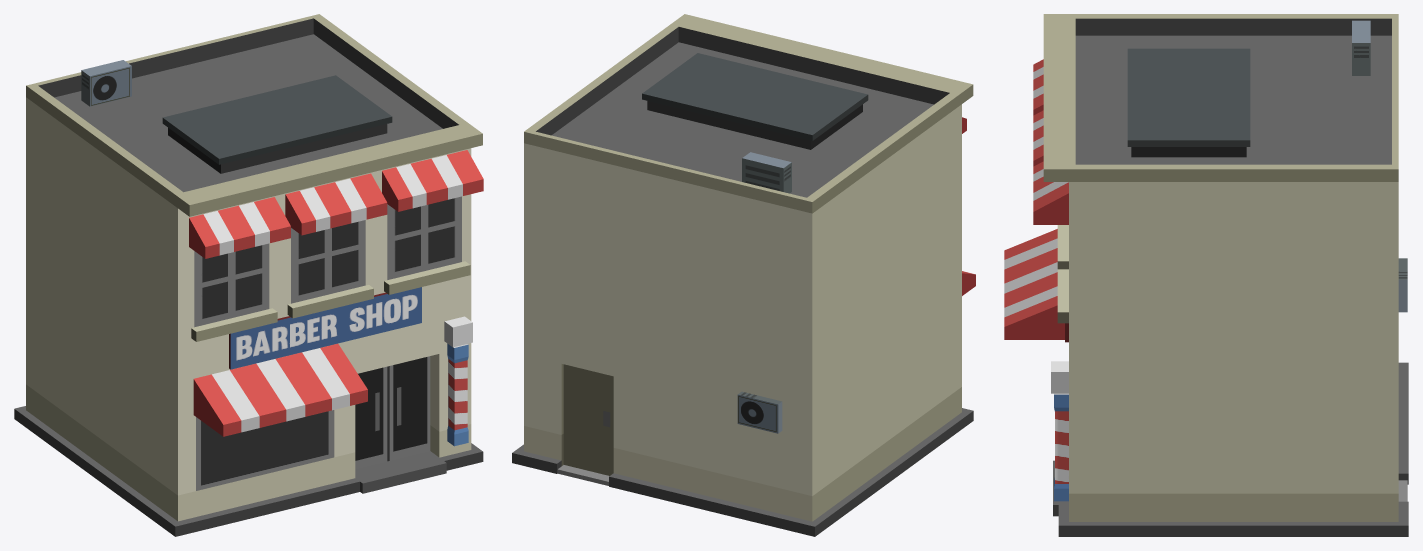
File: baber_shop.obj
The picture shows the model from 3 angles, left to right: view 1: azimuth 30°, elevation 25°; view 2: azimuth 150°, elevation 25°; view 3: azimuth 270°, elevation 25°; orthographic projection. The views are drawn at different scales.
Visible parts, largest first — view 1: ST_Building_BarberShop_Untitled.006; view 2: ST_Building_BarberShop_Untitled.006; view 3: ST_Building_BarberShop_Untitled.006.
Part boxes in pixels (x1=…): ST_Building_BarberShop_Untitled.006: x1=14, y1=14, x2=483, y2=536; ST_Building_BarberShop_Untitled.006: x1=512, y1=14, x2=975, y2=536; ST_Building_BarberShop_Untitled.006: x1=1004, y1=14, x2=1408, y2=536.
Size of the model in its own units: 10.4 by 11.29 by 10.91.
Materials: 1 (1 with a texture image).
